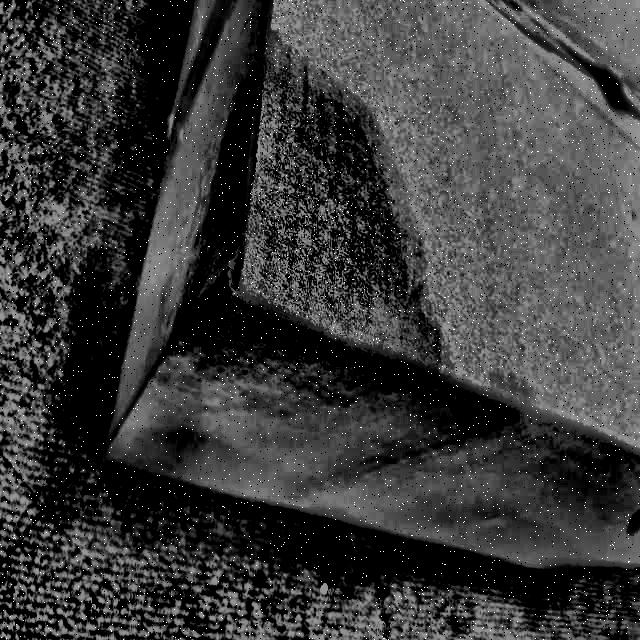box: (85, 0, 640, 581)
wet: (161, 60, 447, 395)
